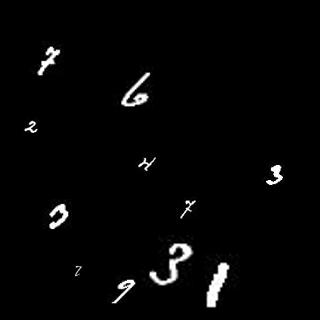four: (137, 153, 163, 174)
nine: (109, 273, 135, 301)
one: (204, 257, 235, 309)
seven: (36, 44, 63, 79), (176, 194, 199, 219)
six: (120, 70, 153, 113)
three: (146, 239, 195, 287), (46, 201, 69, 229), (266, 163, 285, 187)
two: (25, 118, 39, 134), (69, 264, 83, 279)
